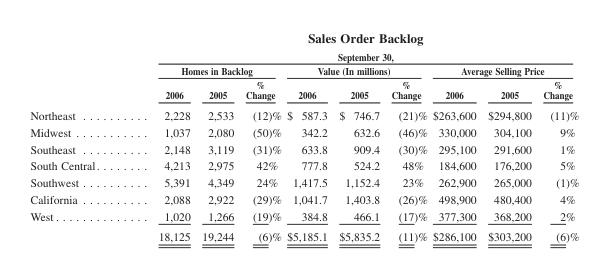table: (29, 29, 578, 242)
table column: (29, 29, 128, 242), (128, 29, 195, 242), (481, 29, 536, 242), (332, 29, 384, 242), (429, 29, 481, 242), (283, 29, 332, 242), (384, 29, 429, 242), (195, 29, 239, 242), (239, 29, 283, 242), (536, 29, 578, 242)
table column header: (29, 29, 578, 104)
table row: (29, 29, 578, 63), (29, 77, 578, 104), (29, 104, 578, 123), (29, 207, 578, 226), (29, 123, 578, 140), (29, 140, 578, 157), (29, 173, 578, 190), (29, 190, 578, 207), (29, 157, 578, 173), (29, 226, 578, 242), (29, 63, 578, 77)
table spanning cell: (128, 29, 578, 63), (128, 63, 283, 77), (429, 63, 578, 77), (283, 63, 429, 77)
